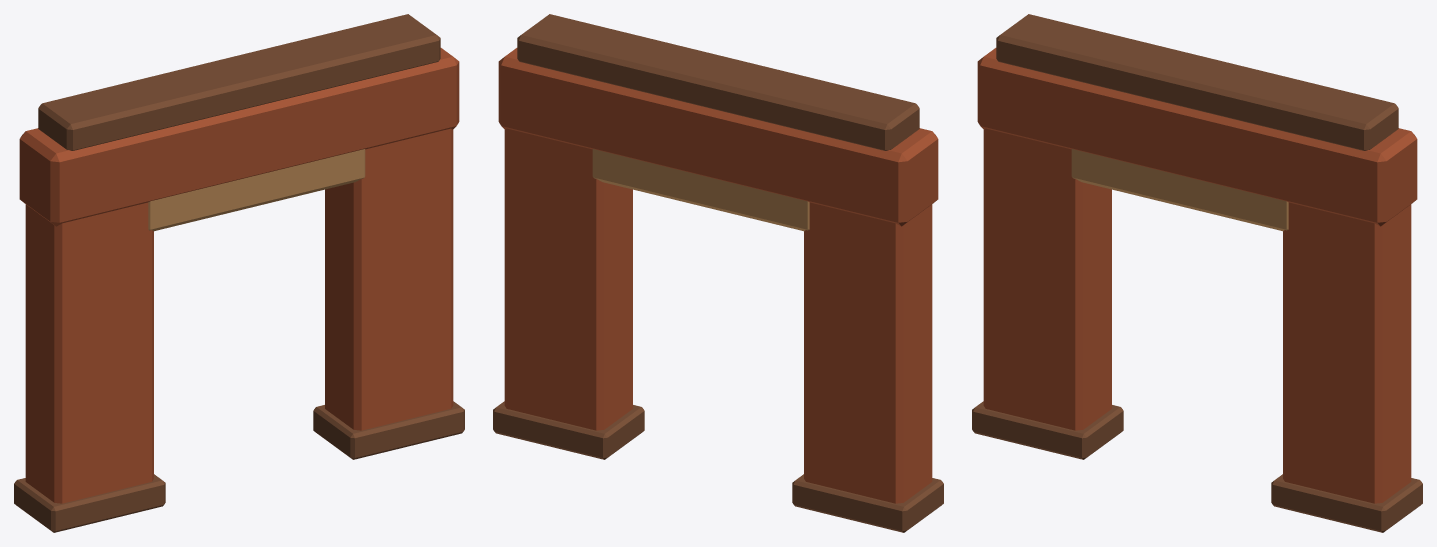
File: SandArch8.glb
The picture shows the model from 3 angles, left to right: view 1: azimuth 30°, elevation 25°; view 2: azimuth 150°, elevation 25°; view 3: azimuth 330°, elevation 25°; orthographic projection.
Parts seen in each view (by area): view 1: Body; view 2: Body; view 3: Body.
Boxes of the visible parts, x1,y1,x2,y2 form: Body: (14, 14, 464, 532); Body: (493, 14, 943, 532); Body: (972, 14, 1422, 532).
Size of what is drawn, in the model's own units: 8.3 by 7.68 by 1.4.
